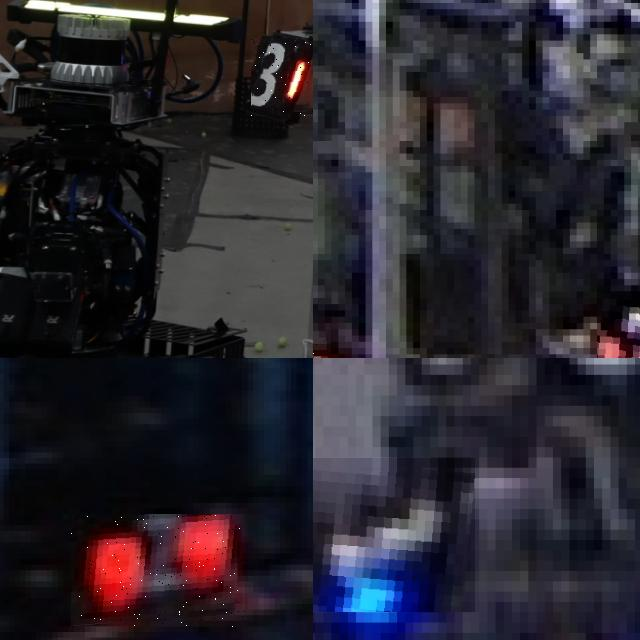B3: (313, 457, 474, 612)
R2: (71, 514, 245, 627), (596, 291, 640, 358)
R3: (251, 38, 313, 115)
